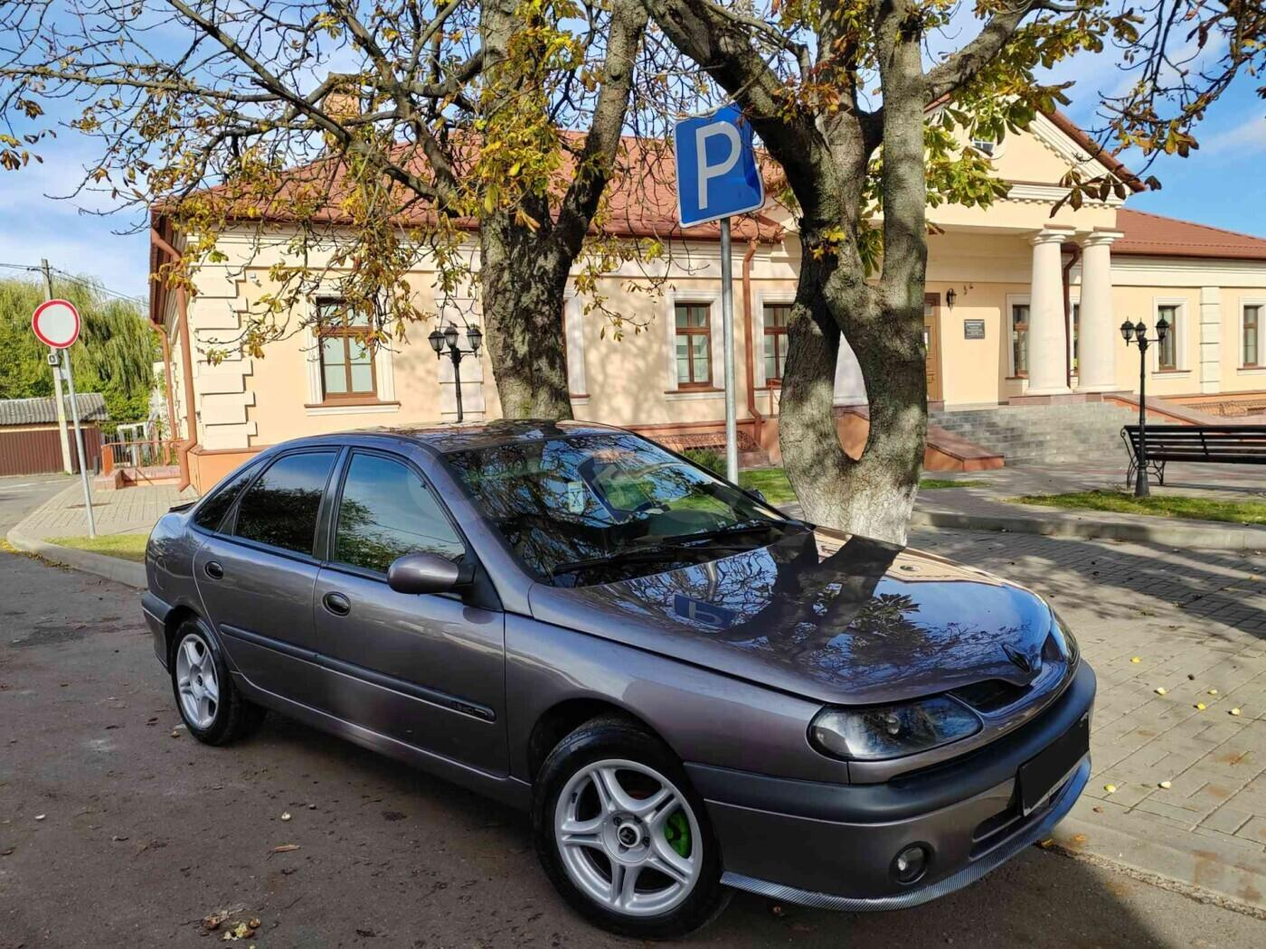Laguna_1998-2001: (140, 413, 1097, 935)
